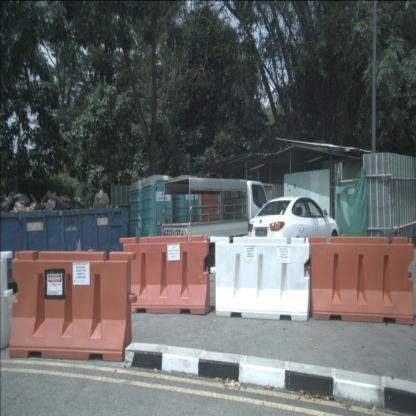barrier: (9, 249, 137, 362), (308, 236, 414, 325), (209, 235, 311, 322), (119, 235, 210, 315)
